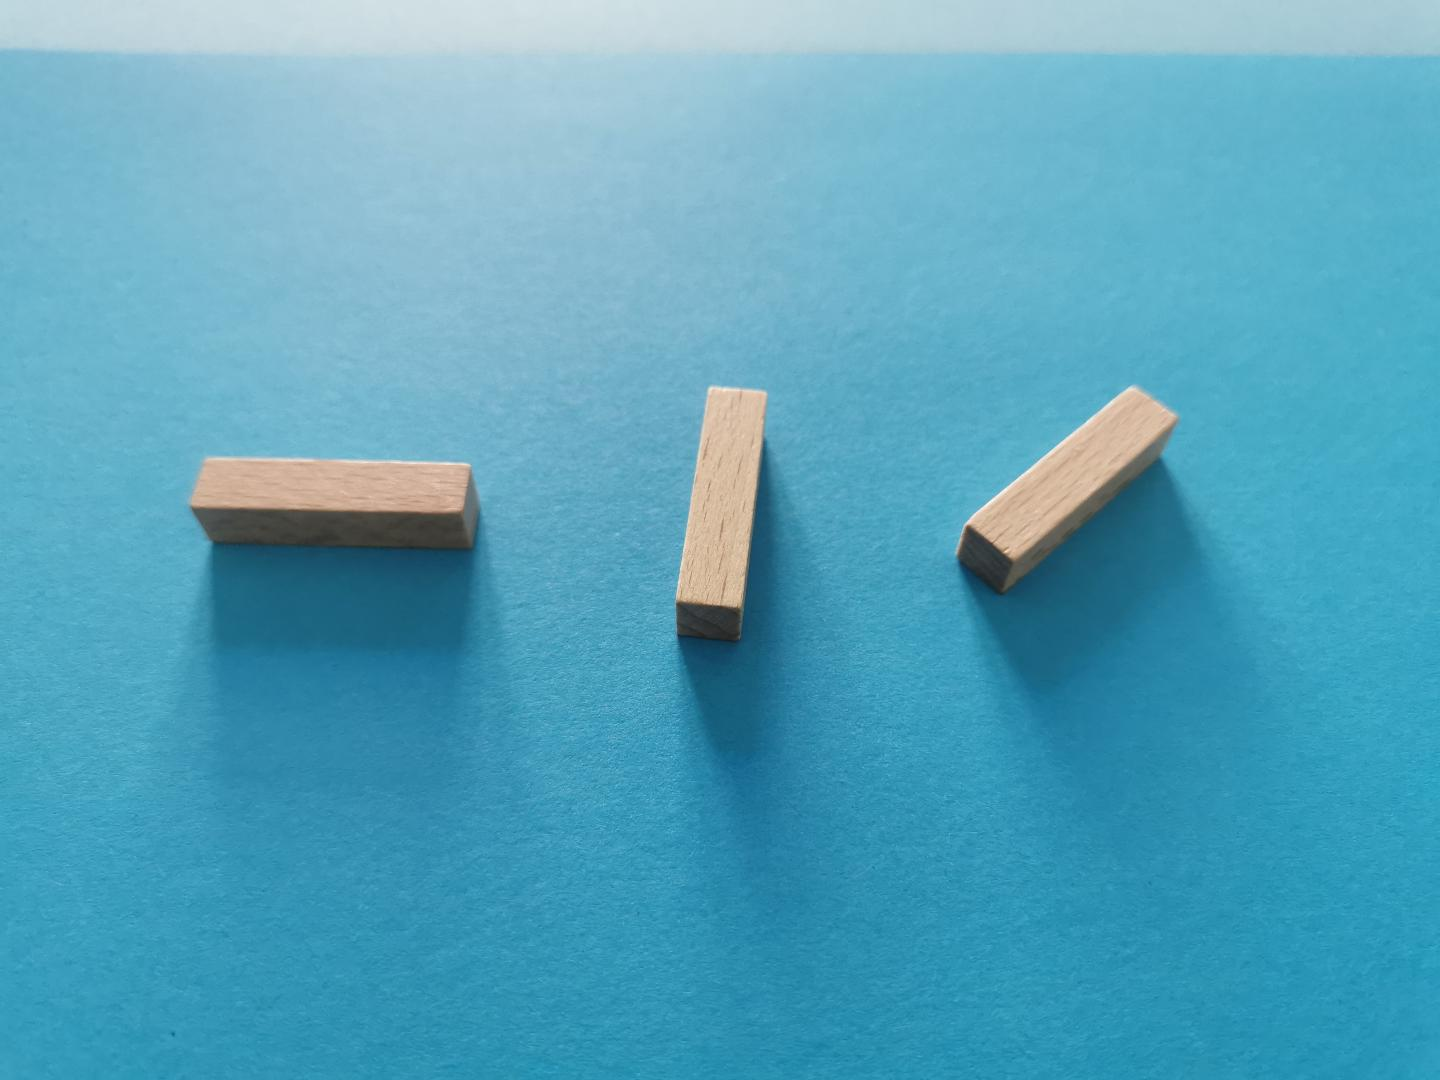jenga: (956, 386, 1178, 593), (192, 458, 478, 548), (678, 386, 768, 641)
